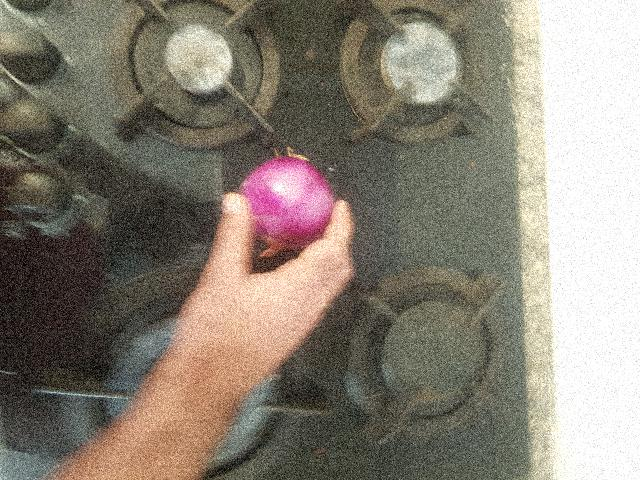onion: (236, 163, 337, 246)
